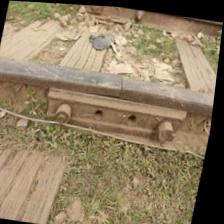person: (105, 65, 142, 103)
